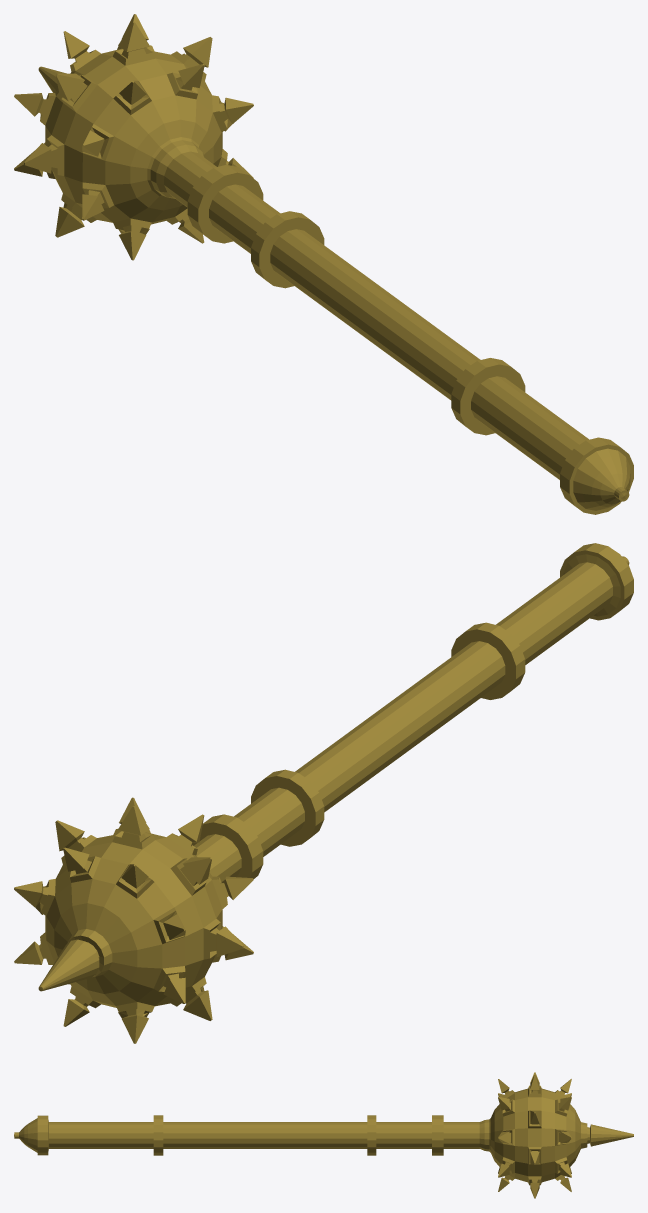
File: mace01.fbx
3 renders of one model, top to bottom at view 1: azimuth 30°, elevation 25°; view 2: azimuth 150°, elevation 25°; view 3: azimuth 270°, elevation 25°, orthographic. The views are drawn at different scales.
Visible parts, largest first — view 1: mace; view 2: mace; view 3: mace.
Part boxes in pixels (x1,y1,x2,y2): mace: [14, 14, 633, 514]; mace: [14, 543, 633, 1043]; mace: [14, 1072, 633, 1198].
Bounding box in the file's own units: 1.69 × 1.69 × 7.83.
